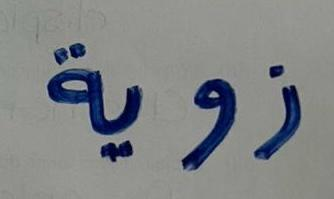teh_marbota: (34, 23, 106, 135)
waw: (158, 55, 244, 180)
yeh: (108, 53, 147, 170)
zain: (248, 46, 316, 176)
